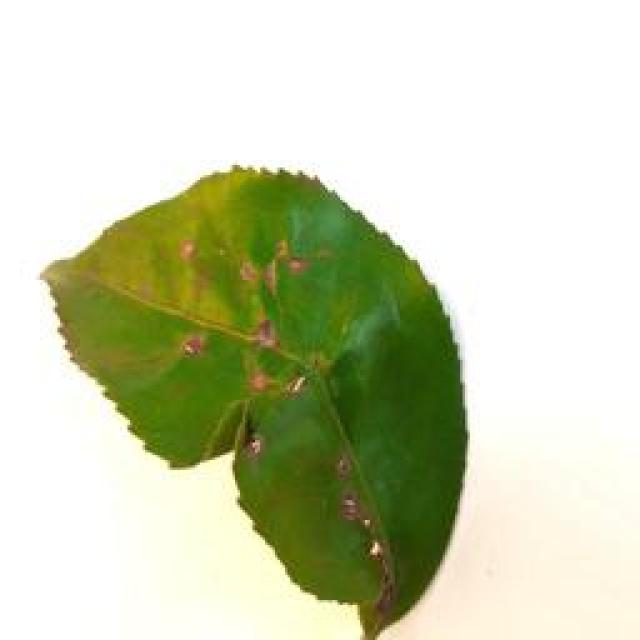Helopeltis: (42, 152, 478, 640)
